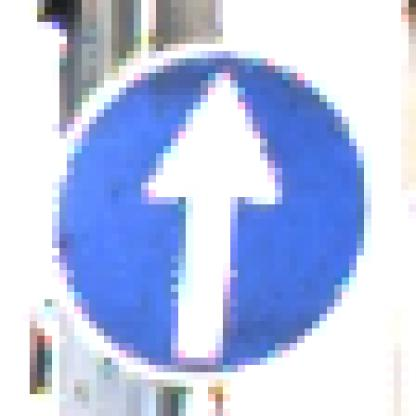AheadOnly: (45, 38, 380, 381)
